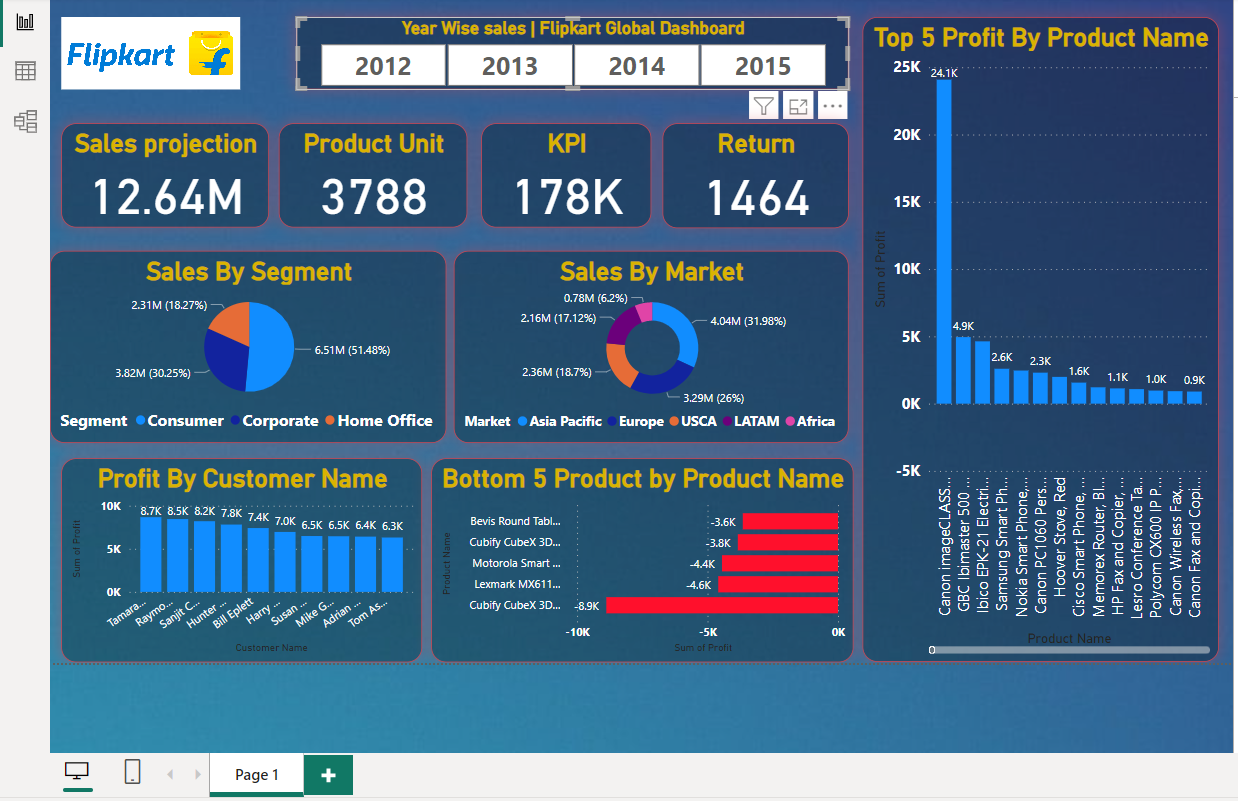

What the dashboard file says about the page in this screenshot:
{"tool":"powerbi","page":{"name":"Page 1","canvas":[1280,720],"ordinal":0},"visuals":[{"type":"slicer","title":"Year Wise sales | Flipkart Global Dashboard","fields":{"Values":["Orders.Year"]},"box":[266.4,21.6,597.7,78.4],"z":0},{"type":"card","title":"Sales projection","fields":{"Values":["Orders.Sales"]},"box":[12.3,137.1,224.9,112.4],"z":1000},{"type":"image","box":[12.3,21.9,193.3,78.1],"z":2000},{"type":"card","title":"Product Unit","fields":{"Values":["Orders.Product Name"]},"box":[246.8,137.1,204.3,112.4],"z":3000},{"type":"card","title":"KPI","fields":{"Values":["Orders.Quantity"]},"box":[466.2,137.1,183.7,112.4],"z":4000},{"type":"card","title":"Return","fields":{"Values":["Orders.Ship Date"]},"box":[662.6,136.6,201.5,113.6],"z":5000},{"type":"pieChart","title":"Sales By Segment","fields":{"Y":["Orders.Sales"],"Category":["Orders.Segment"]},"box":[0,274.2,429.1,208.4],"z":6000},{"type":"donutChart","title":"Sales By Market","fields":{"Y":["Orders.Sales"],"Category":["Orders.Market"]},"box":[436.8,274.5,427.3,208.2],"z":7000},{"type":"columnChart","title":"Profit By Customer Name","fields":{"Category":["Orders.Customer Name"],"Y":["Orders.Profit"]},"box":[12.2,499,390.8,220.4],"z":8000},{"type":"clusteredBarChart","title":"Bottom 5 Product by Product Name","fields":{"Y":["Orders.Profit"],"Category":["Orders.Product Name"]},"box":[412.4,499,457,220.4],"z":9000},{"type":"columnChart","title":"Top 5 Profit By Product Name","fields":{"Y":["Orders.Profit"],"Category":["Orders.Product Name"]},"box":[878.9,21.6,385.4,697.7],"z":10000}]}

Visuals, with their boxes on the page's 1280x720 design canvas (x1, y1, x2, y2). These are canvas units, not pixel positions in the 1238x801 screenshot, which may show the page scaled, cropped or inside an application window:
"Year Wise sales | Flipkart Global Dashboard" slicer: 266, 22, 864, 100
"Sales projection" card: 12, 137, 237, 250
image: 12, 22, 206, 100
"Product Unit" card: 247, 137, 451, 250
"KPI" card: 466, 137, 650, 250
"Return" card: 663, 137, 864, 250
"Sales By Segment" pieChart: 0, 274, 429, 483
"Sales By Market" donutChart: 437, 274, 864, 483
"Profit By Customer Name" columnChart: 12, 499, 403, 719
"Bottom 5 Product by Product Name" clusteredBarChart: 412, 499, 869, 719
"Top 5 Profit By Product Name" columnChart: 879, 22, 1264, 719
